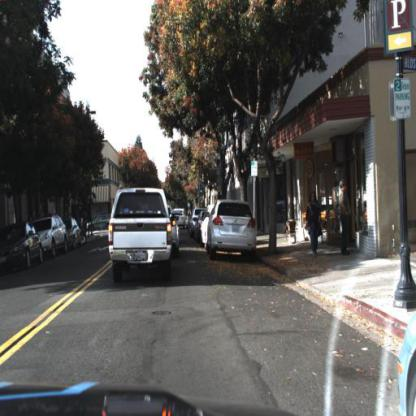car: (109, 187, 173, 283), (1, 221, 46, 276), (209, 205, 254, 254), (40, 213, 69, 261), (64, 218, 83, 245), (67, 217, 81, 252), (89, 214, 110, 232), (177, 207, 190, 232), (175, 207, 189, 228)
pedestrian: (305, 189, 323, 260), (304, 192, 324, 254), (338, 179, 351, 249), (339, 181, 351, 256)
